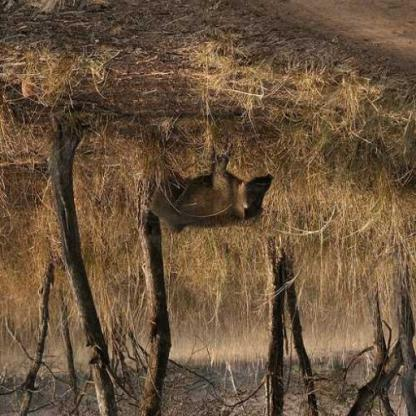boar: (131, 140, 278, 256)
